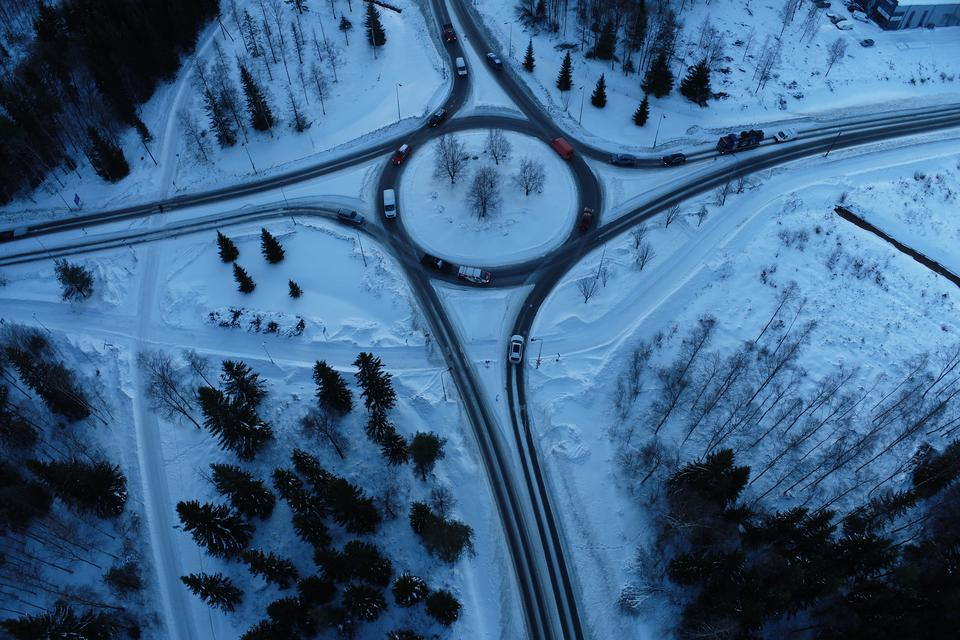intersection: (411, 325, 561, 373), (132, 176, 178, 260)
roundabout: (359, 101, 626, 314)
